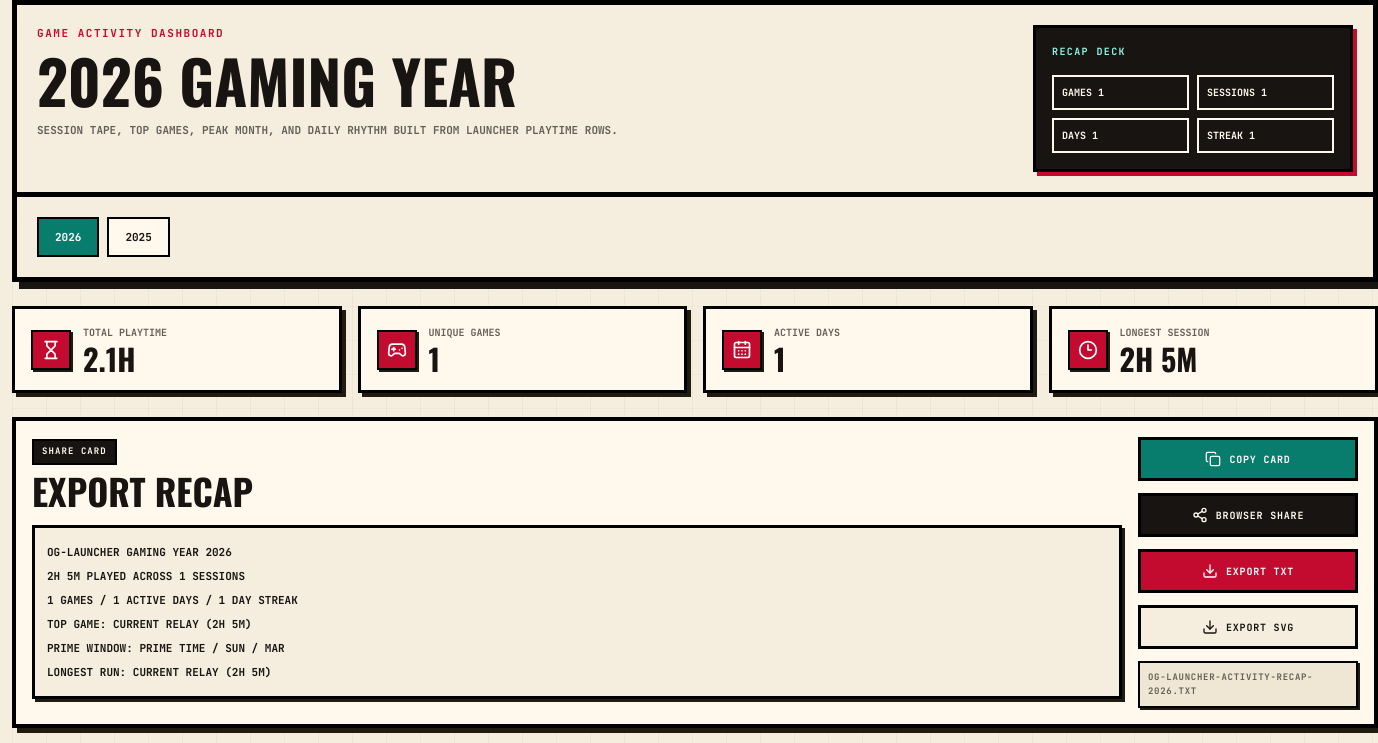
Test: GameActivityDashboardPage › resets share feedback when the recap year changes
Click the button "Copy Card".
click(1248, 459)  # box [1138, 437, 1358, 481]
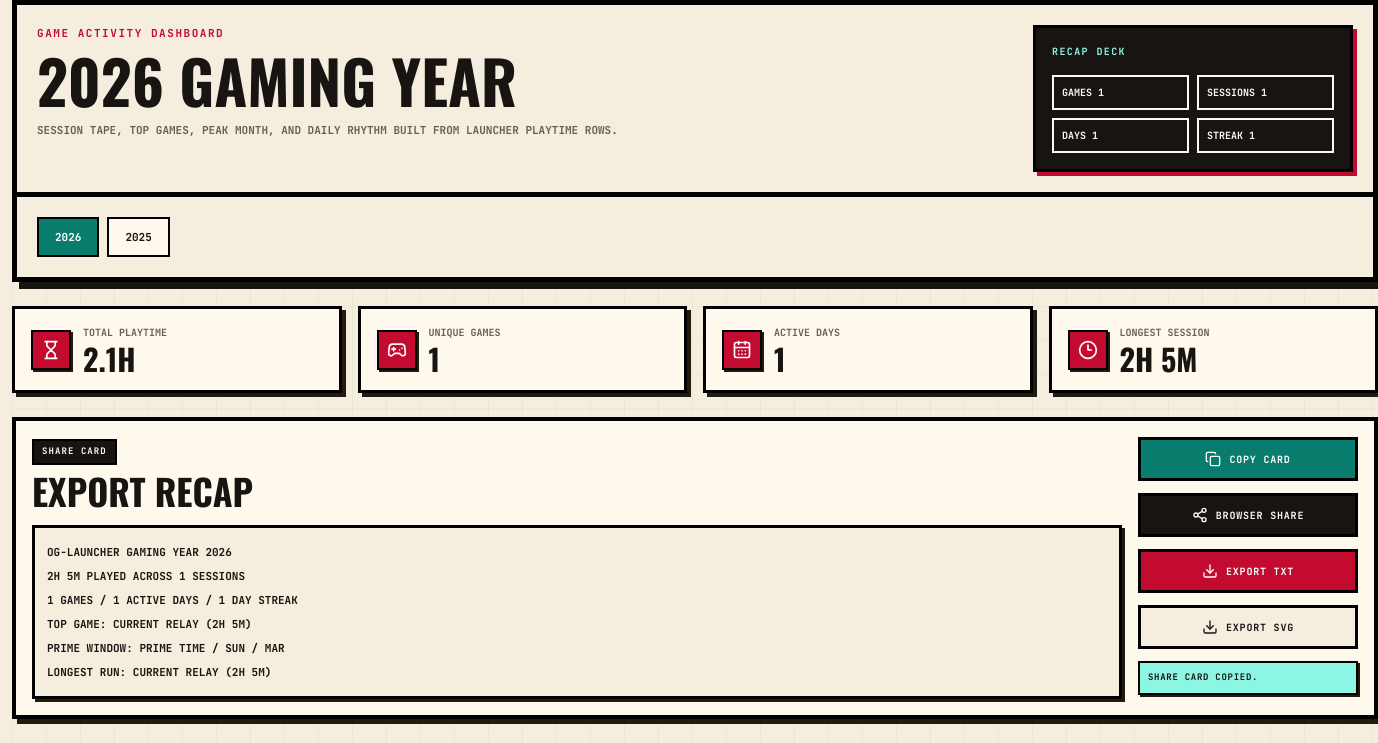
Result: the text "Share card copied." is shown at [1138, 661, 1358, 694]
Click the button "2025".
click(139, 237)  # box [107, 217, 170, 257]
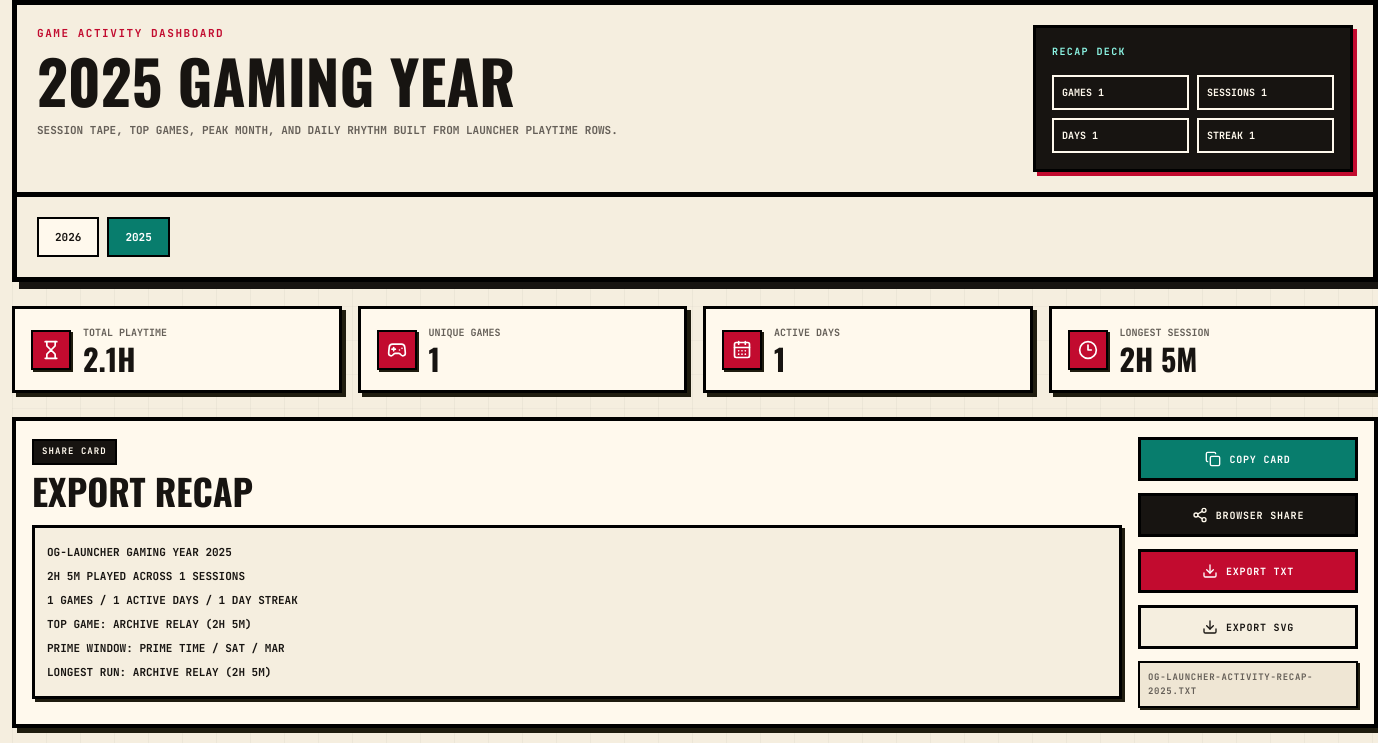
Result: the text "2025 Gaming Year" is shown at [37, 34, 515, 124]
Result: the text "Archive Relay" is shown at [47, 544, 298, 678]
Result: the text "Share card copied." is gone
